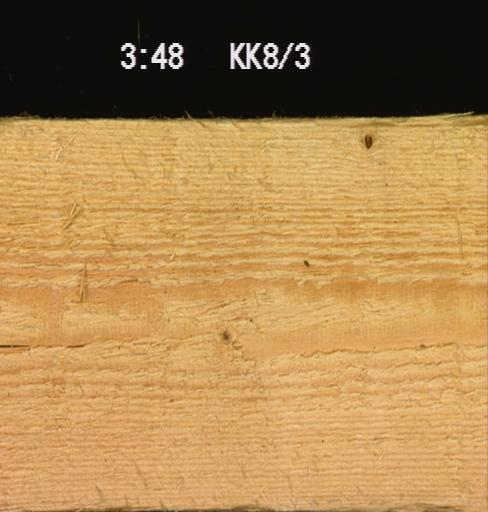dry_knot: (360, 129, 374, 151)
small_knot: (216, 324, 235, 345)
split: (0, 336, 95, 351)
wave: (186, 112, 487, 122), (208, 501, 469, 511)
